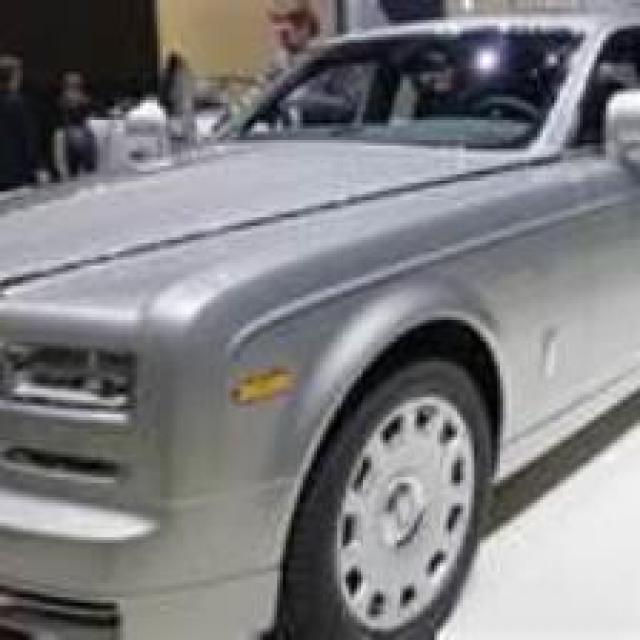damaged: (532, 326, 574, 383)
